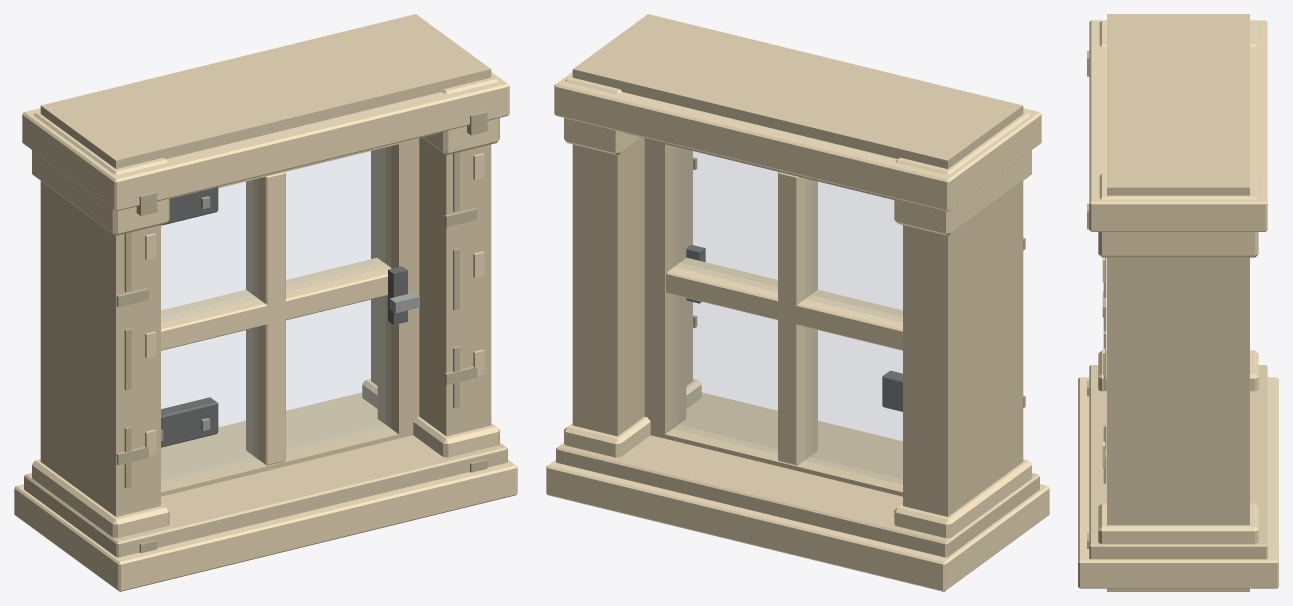
The model's file is birch_window.gltf.
The picture shows the model from 3 angles, left to right: view 1: azimuth 30°, elevation 25°; view 2: azimuth 150°, elevation 25°; view 3: azimuth 270°, elevation 25°; orthographic projection. The views are drawn at different scales.
Bounding box in the file's own units: 0.98 × 1 × 0.45.
